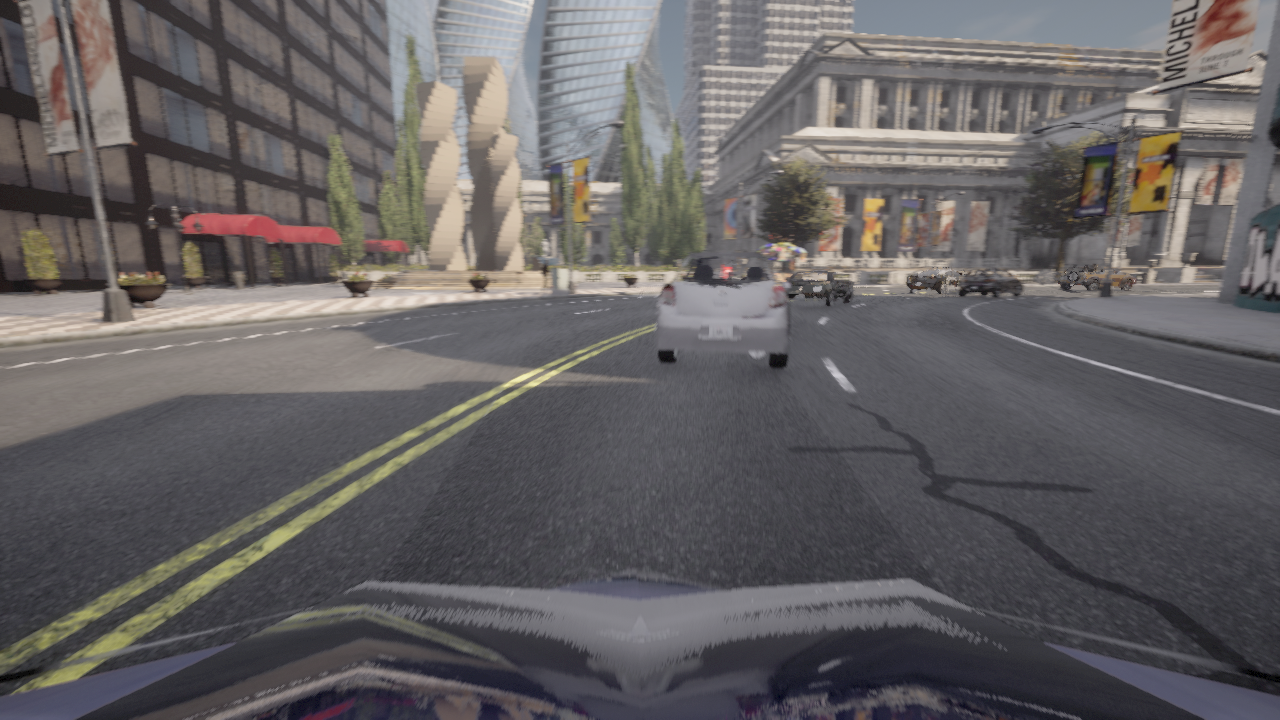cyclist: (0, 569, 1279, 719), (655, 251, 790, 368), (785, 271, 852, 306), (1057, 264, 1135, 290), (958, 268, 1023, 297), (906, 266, 970, 294)
pedestrian: (541, 259, 551, 292)
